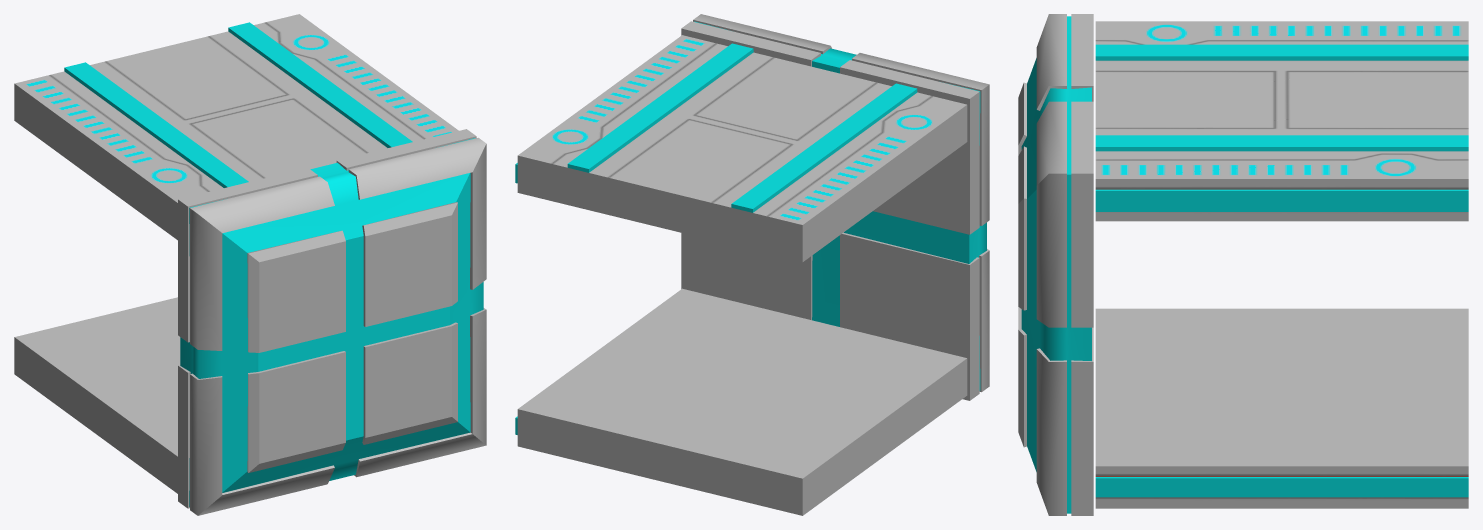
Rendered from movable left.fbx.
3 renders of one model, left to right at view 1: azimuth 30°, elevation 25°; view 2: azimuth 150°, elevation 25°; view 3: azimuth 270°, elevation 25°, orthographic. The views are drawn at different scales.
Visible parts, largest first — view 1: left_side, polySurface1, polySurface2; view 2: polySurface1, polySurface2, left_side; view 3: polySurface1, polySurface2, left_side.
Part boxes in pixels (x1,y1,x2,y2): left_side: [178, 129, 486, 515]; polySurface1: [14, 14, 458, 240]; polySurface2: [14, 297, 180, 493]; polySurface1: [515, 35, 967, 262]; polySurface2: [515, 288, 967, 515]; left_side: [681, 14, 989, 400]; polySurface1: [1095, 21, 1468, 221]; polySurface2: [1095, 308, 1468, 508]; left_side: [1018, 14, 1093, 515].
Bounding box in the file's own units: 10.15 × 10.13 × 12.07.
